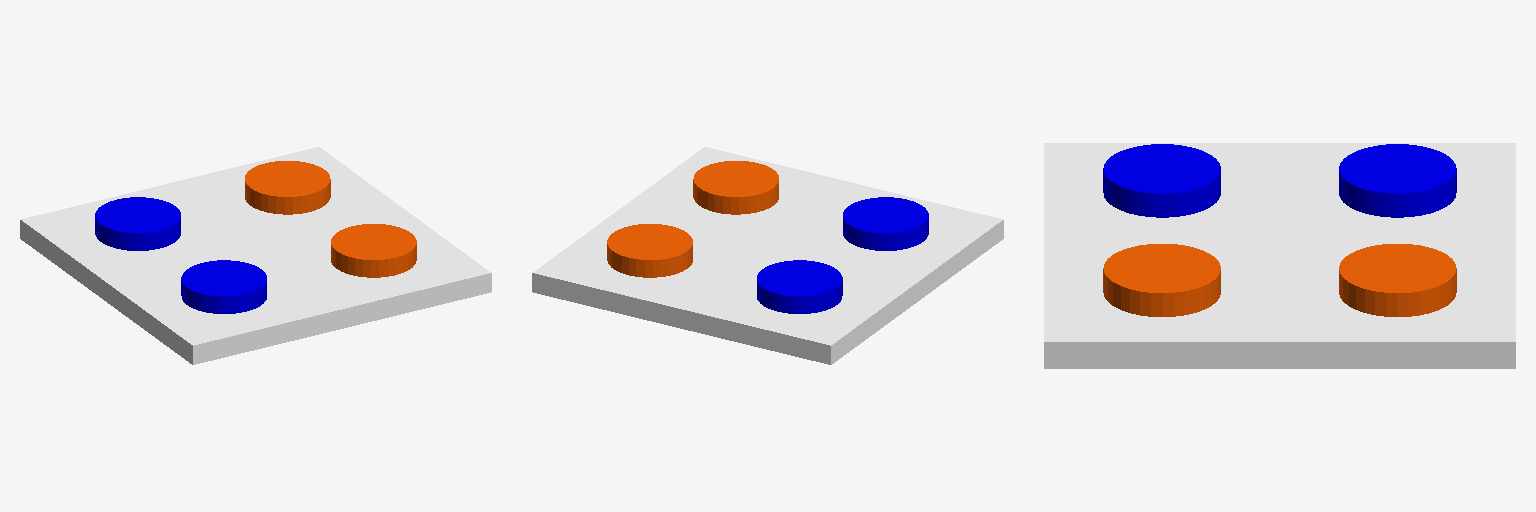
URDF robot description (quadrotor):
<?xml version="1.0"?>
<robot name="quadrotor">
  <link name="base_link">
    <visual>
      <origin xyz="0 0 0.0"/>
      <geometry>
        <box size="0.4 0.4 0.025"/>
      </geometry>
      <material name="White">
        <color rgba="1 1 1 1.0"/>
      </material>
    </visual>
    <collision>
      <origin xyz="0 0 0"/>
      <geometry>
        <box size="0.5 0.5 0.5"/>
      </geometry>
    </collision>
    <inertial>
      <mass value="1.2"/>
      <inertia ixx="0.013" ixy="0.0" ixz="0.0" iyy="0.014" iyz="0.0" izz="0.013"/>
    </inertial>
  </link>
  <link name="front_left_prop">
    <visual>
      <origin xyz="0 0 0"/>
      <geometry>
        <cylinder radius="0.05" length="0.07"/>
        <!-- <box size="0.1 0.1 0.07"/> -->
      </geometry>
      <material name="Orange">
        <color rgba="1 0.423 0.03921568627 1.0"/>
      </material>
    </visual>
    <inertial>
      <mass value="0.01"/>
      <inertia ixx="0.000001" ixy="0.0" ixz="0.0" iyy="0.000001" iyz="0.0" izz="0.000001"/>
    </inertial>
  </link>
  <link name="front_right_prop">
    <visual>
      <origin xyz="0 0 0"/>
      <geometry>
      <!-- <box size="0.1 0.1 0.07"/> -->
        <cylinder radius="0.05" length="0.07"/>
      </geometry>
      <material name="Orange">
        <color rgba="1.0 0.423 0.03921568627 1.0"/>
      </material>
    </visual>
    <inertial>
      <mass value="0.01"/>
      <inertia ixx="0.000001" ixy="0.0" ixz="0.0" iyy="0.000001" iyz="0.0" izz="0.000001"/>
    </inertial>
  </link>
  <link name="back_left_prop">
    <visual>
      <origin xyz="0 0 0"/>
      <geometry>
      <!-- <box size="0.1 0.1 0.07"/> -->
        <cylinder radius="0.05" length="0.07"/>
      </geometry>
      <material name="Blue">
        <color rgba="0 0 1 1.0"/>
      </material>
    </visual>
    <inertial>
      <mass value="0.01"/>
      <inertia ixx="0.000001" ixy="0.0" ixz="0.0" iyy="0.000001" iyz="0.0" izz="0.000001"/>
    </inertial>
  </link>
  <link name="back_right_prop">
    <visual>
      <origin xyz="0 0 0"/>
      <geometry>
      <!-- <box size="0.1 0.1 0.07"/> -->
        <cylinder radius="0.05" length="0.07"/>
      </geometry>
      <material name="Blue">
        <color rgba="0 0 1 1.0"/>
      </material>
    </visual>
    <inertial>
      <mass value="0.01"/>
      <inertia ixx="0.000001" ixy="0.0" ixz="0.0" iyy="0.000001" iyz="0.0" izz="0.000001"/>
    </inertial>
  </link>
  <joint name="base_link_to_front_left_prop" type="fixed" dont_collapse="true">    
    <parent link="base_link"/>    
    <child link="front_left_prop"/>    
    <origin xyz="0.100 0.100 0"/>  
  </joint>
  <joint name="base_link_to_front_right_prop" type="fixed" dont_collapse="true">    
    <parent link="base_link"/>    
    <child link="front_right_prop"/>    
    <origin xyz="0.100 -0.100 0"/>
  </joint>
  <joint name="base_link_to_back_right_prop" type="fixed" dont_collapse="true">    
    <parent link="base_link"/>    
    <child link="back_right_prop"/>    
    <origin xyz="-0.100 -0.100 0"/> 
  </joint>
  <joint name="base_link_to_back_left_prop" type="fixed" dont_collapse="true">    
    <parent link="base_link"/>    
    <child link="back_left_prop"/>    
    <origin xyz="-0.100 0.100 0"/> 
  </joint>
</robot>

--- Facts derived from the render (not from the file) ---
The picture shows the robot from 3 angles, left to right: view 1: azimuth 30°, elevation 25°; view 2: azimuth 150°, elevation 25°; view 3: azimuth 270°, elevation 25°; orthographic projection.
Robot: quadrotor — 5 links, 4 joints (4 fixed); root link base_link; default pose: every joint at zero.
Visible links, largest first — view 1: base_link, back_left_prop, front_right_prop, back_right_prop, front_left_prop; view 2: base_link, back_right_prop, front_left_prop, back_left_prop, front_right_prop; view 3: base_link, back_left_prop, back_right_prop, front_left_prop, front_right_prop.
Boxes of the visible links, x1,y1,x2,y2 form: base_link: (20, 147, 491, 364); back_left_prop: (95, 197, 180, 250); front_right_prop: (331, 224, 416, 277); back_right_prop: (181, 260, 266, 313); front_left_prop: (245, 161, 330, 214); base_link: (532, 147, 1003, 364); back_right_prop: (843, 197, 928, 250); front_left_prop: (607, 224, 692, 277); back_left_prop: (757, 260, 842, 313); front_right_prop: (693, 161, 778, 214); base_link: (1044, 143, 1515, 368); back_left_prop: (1339, 144, 1456, 217); back_right_prop: (1103, 144, 1220, 217); front_left_prop: (1339, 244, 1456, 316); front_right_prop: (1103, 244, 1220, 316).
Bounding box of the posed robot: 0.4 × 0.4 × 0.07 m (x, y, z).
Geometry: primitives only (box / cylinder / sphere), no mesh files.
